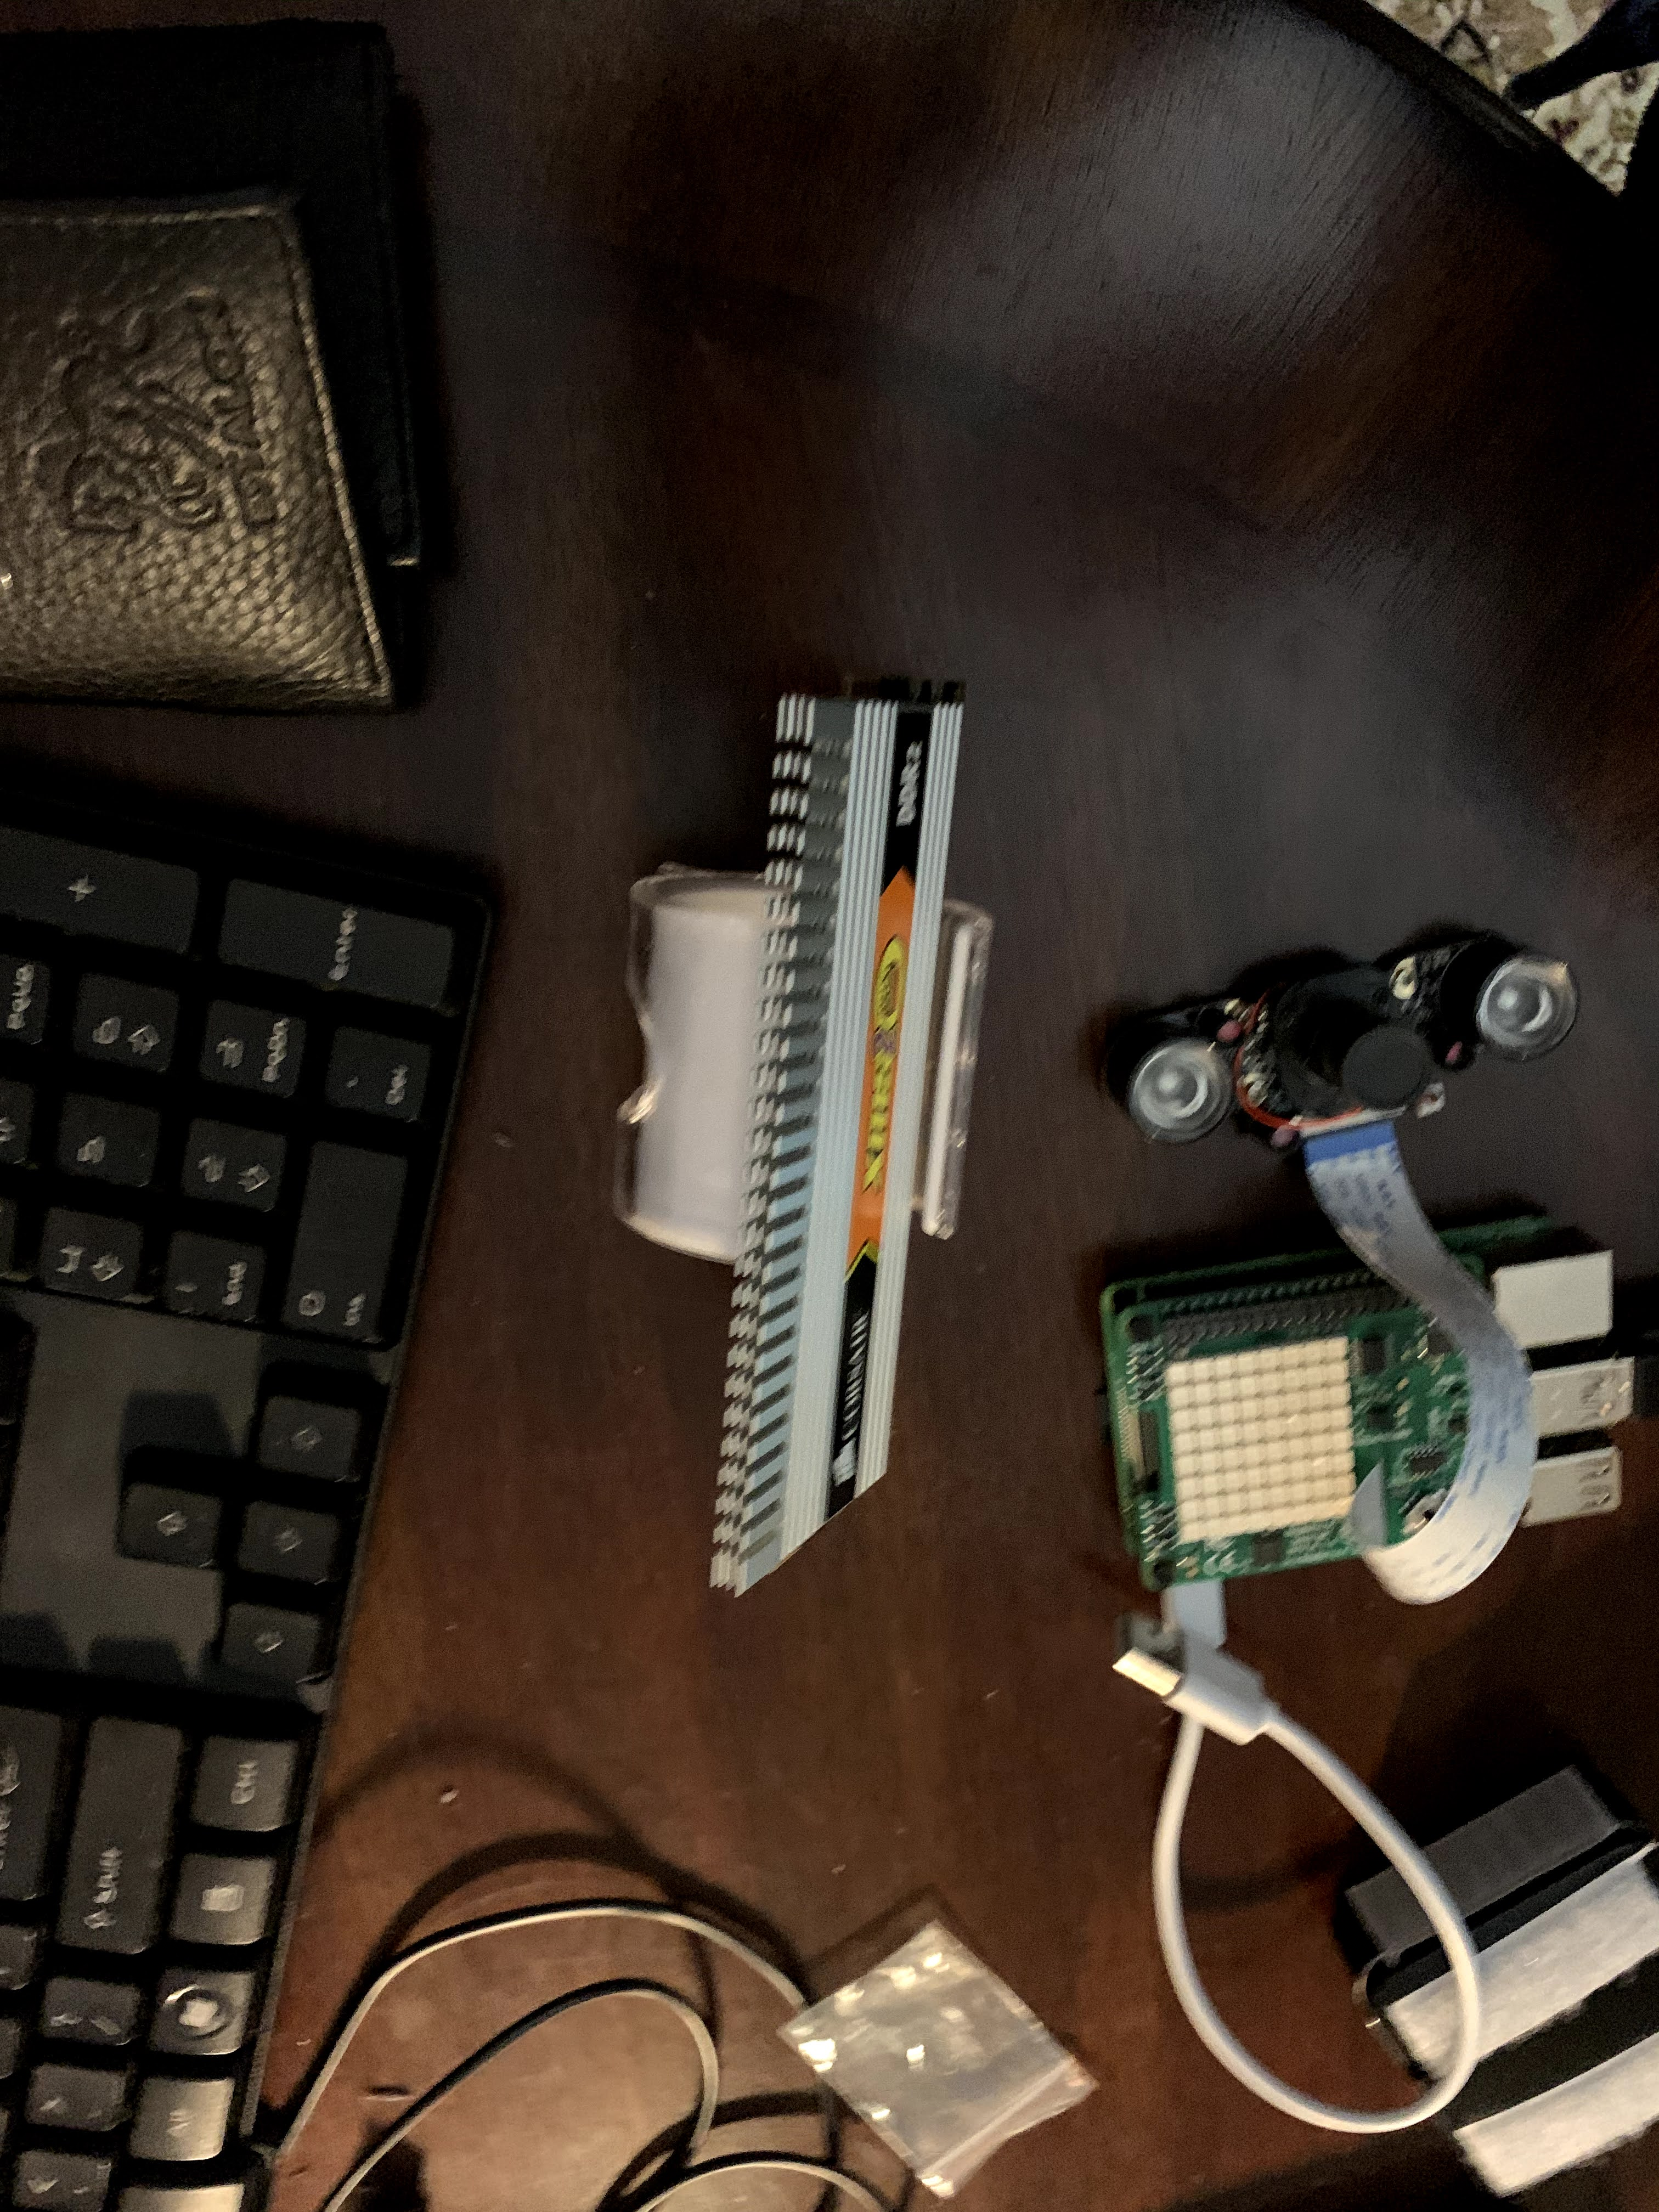Space-debris-medium: (697, 653, 981, 1623)
